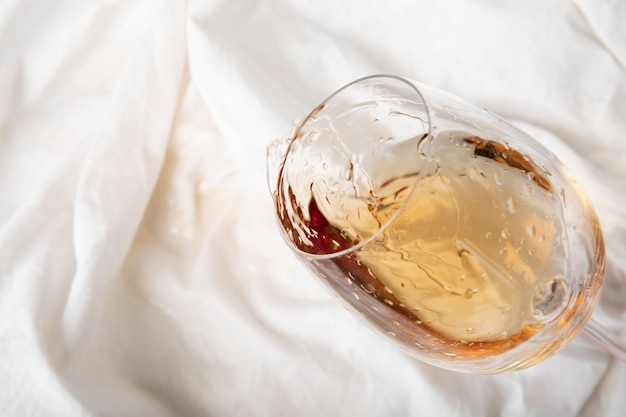alcohol: (272, 75, 626, 372)
